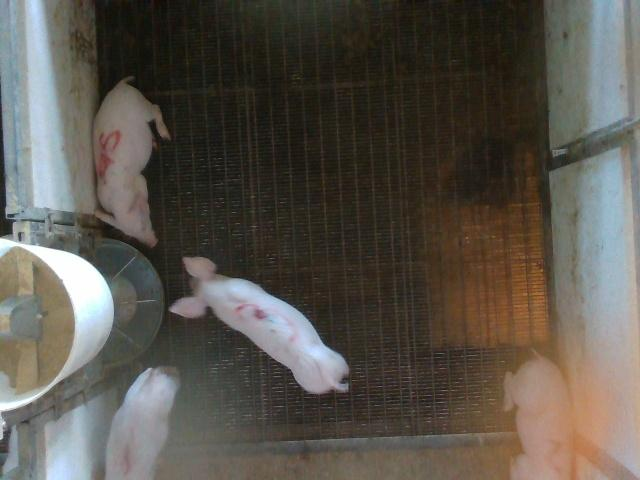pig-1: (106, 366, 180, 479)
pig-2: (504, 352, 571, 479)
pig-3: (169, 258, 349, 393)
pig-5: (94, 78, 170, 246)
